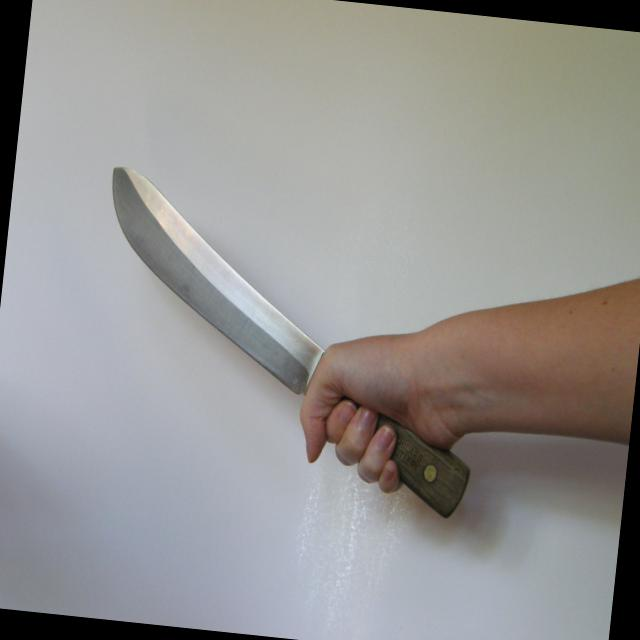knife: (54, 140, 418, 482)
